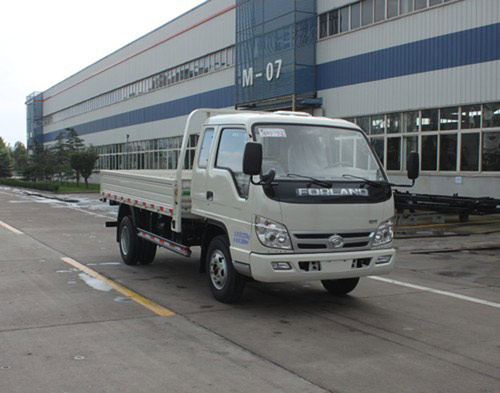smalltruck: (94, 70, 423, 309)
